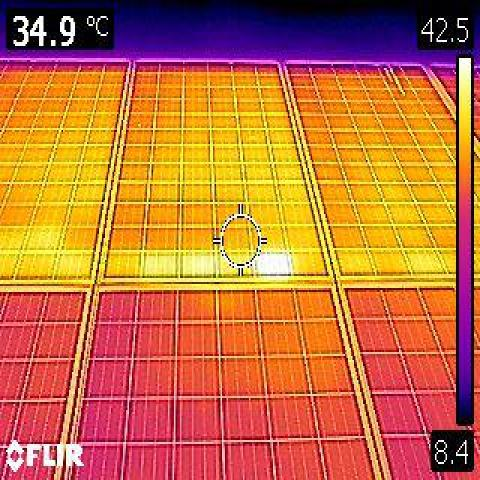fault: (258, 252, 290, 275)
